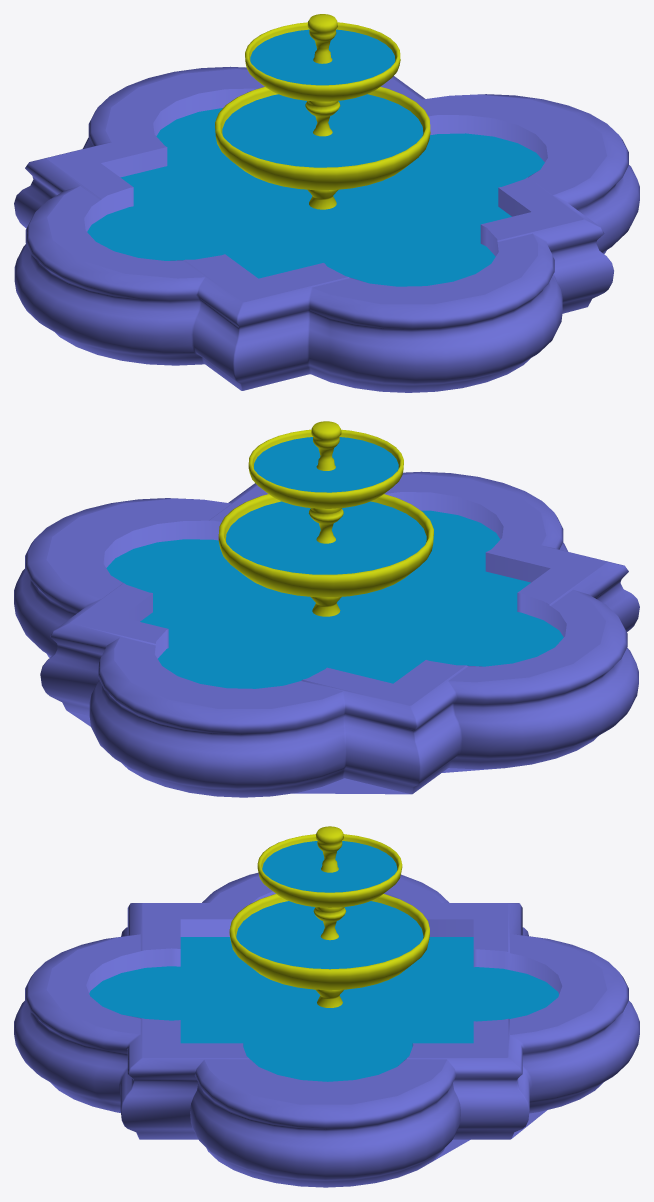
Rendered from fountainedit3.fbx.
3 views of the same model, one above another, from view 1: azimuth 30°, elevation 25°; view 2: azimuth 150°, elevation 25°; view 3: azimuth 270°, elevation 25° (orthographic). The views are drawn at different scales.
Visible parts, largest first — view 1: fountain; view 2: fountain; view 3: fountain.
Part boxes in pixels (x1=…): fountain: x1=14, y1=14, x2=639, y2=392; fountain: x1=14, y1=421, x2=639, y2=797; fountain: x1=14, y1=826, x2=639, y2=1187.
Bounding box in the file's own units: 620 × 256 × 615.
